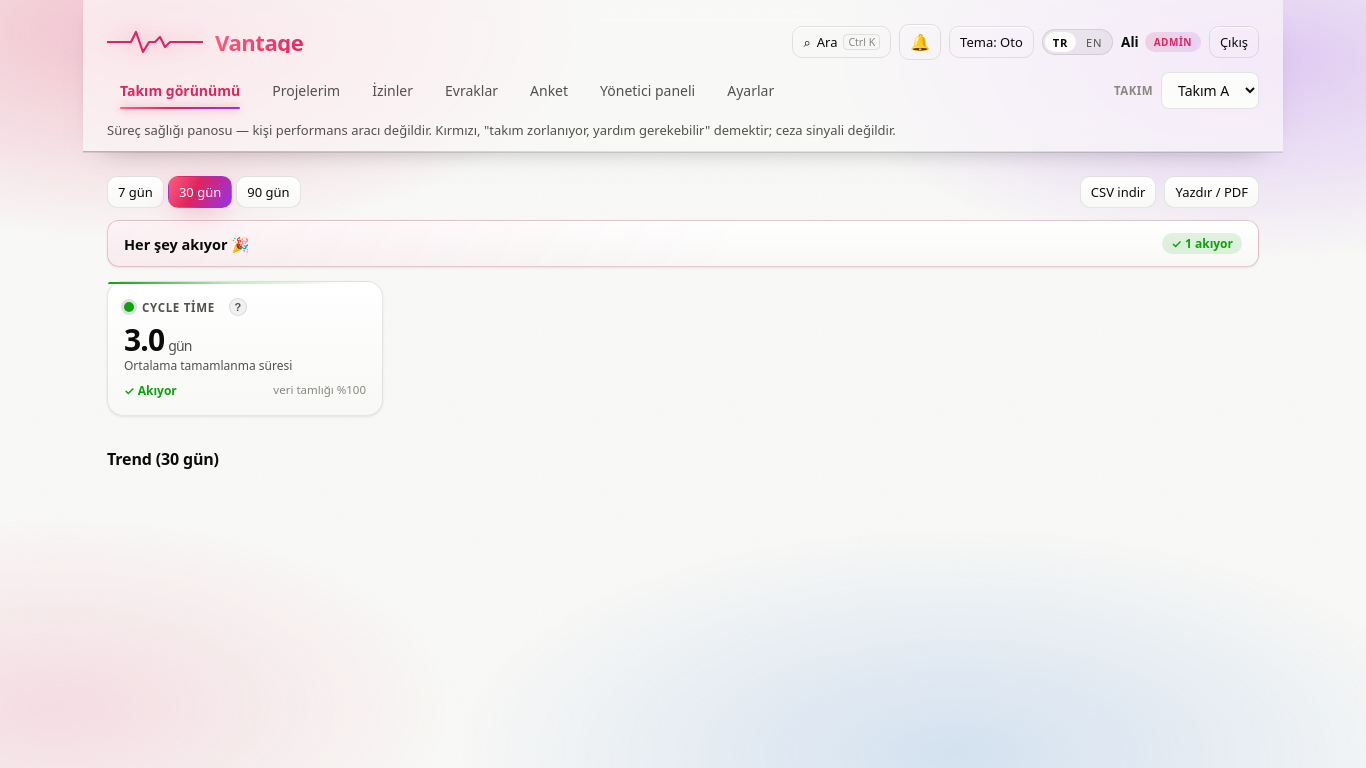
dil değişimi › sunucudan gelen metinleri de yeni dilde tazeler
Expected: the text "✓ Akıyor" is shown, [124,382,177,399]
Click the button "EN" at (1094, 42), box [1078,32,1110,52]
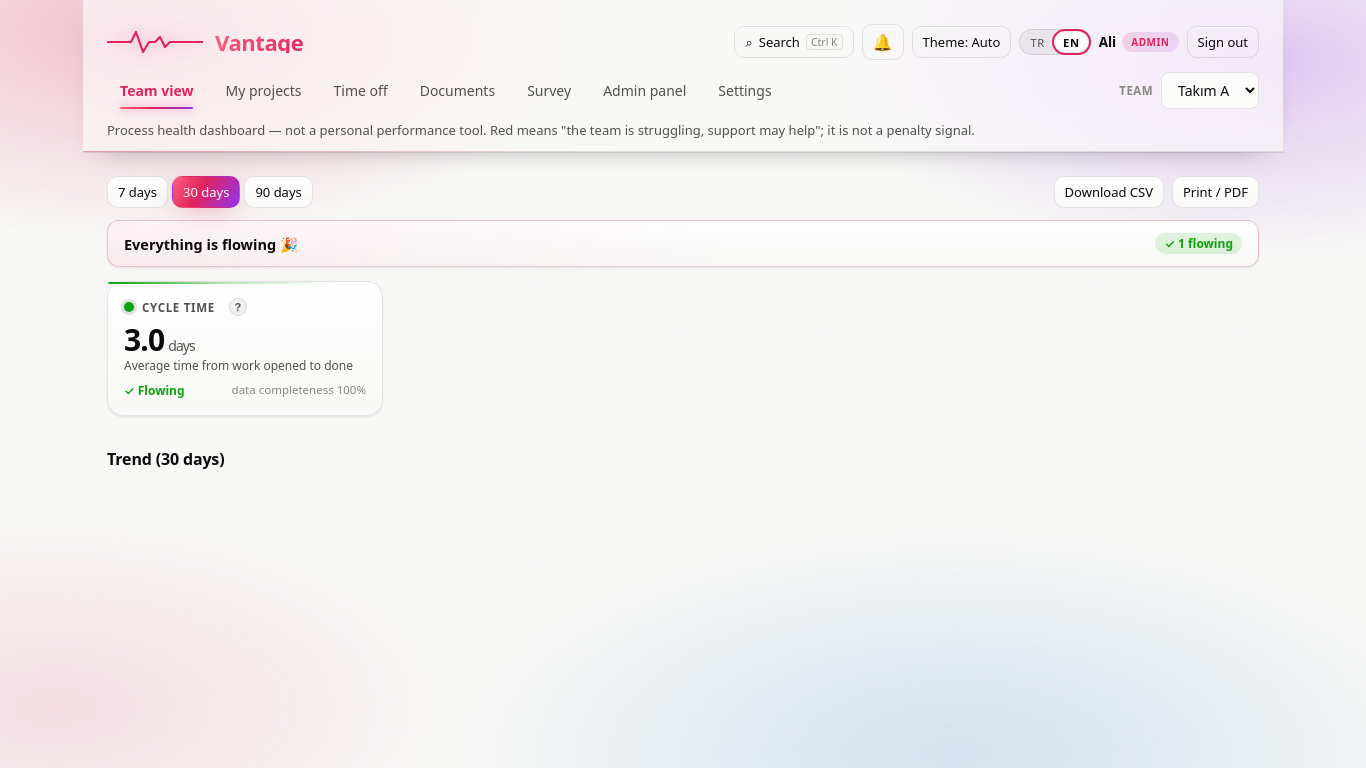
Expected: the text "✓ Flowing" is shown, [124,382,185,399]
Expected: the text "akıyor" is gone
